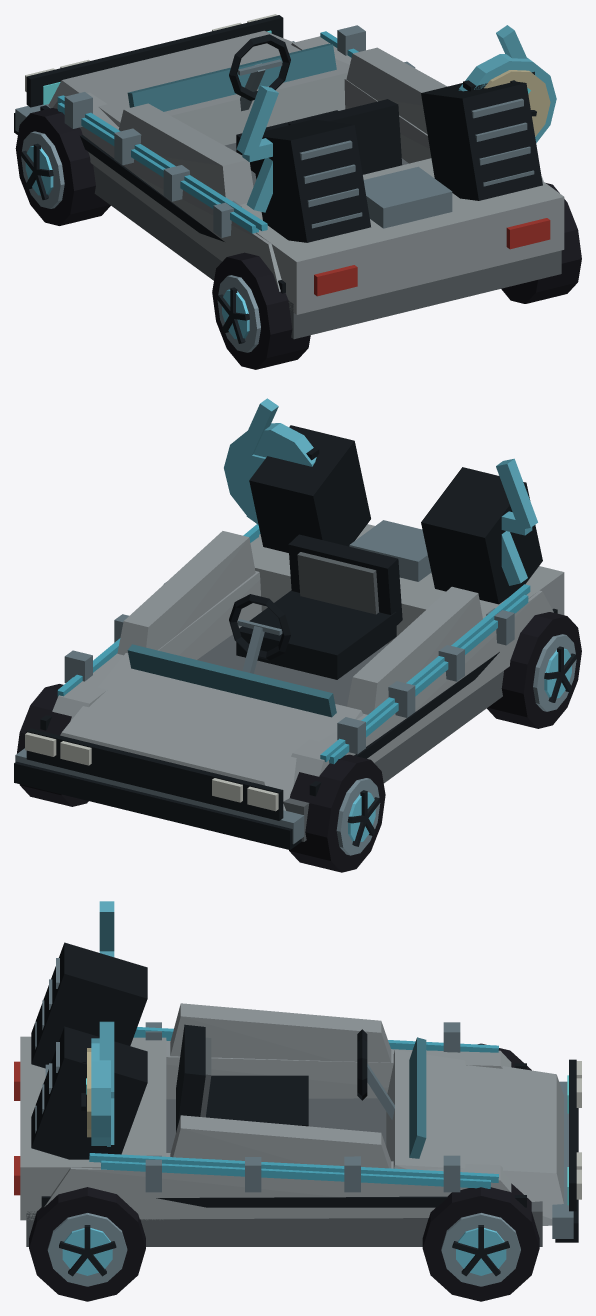
The model's file is kart.glb.
The picture shows the model from 3 angles, top to bottom: view 1: azimuth 30°, elevation 25°; view 2: azimuth 150°, elevation 25°; view 3: azimuth 270°, elevation 25°; orthographic projection.
Parts seen in each view (by area): view 1: identity-delorean-delorean-stainless-wedge, wheel-rear-left, wheel-front-left, identity-delorean-driver-cockpit, identity-delorean-motif-flux-coils, identity-delorean-motif-electric, identity-delorean-motif-clock, wheel-rear-right; view 2: identity-delorean-delorean-stainless-wedge, identity-delorean-driver-cockpit, wheel-front-left, wheel-rear-left, identity-delorean-motif-flux-coils, identity-delorean-motif-electric, identity-delorean-motif-clock, wheel-front-right; view 3: identity-delorean-delorean-stainless-wedge, wheel-front-right, wheel-rear-right, identity-delorean-driver-cockpit, identity-delorean-motif-flux-coils, identity-delorean-motif-clock, identity-delorean-motif-electric.
Part boxes in pixels (x1,y1,x2,y2): identity-delorean-delorean-stainless-wedge: (14,14,564,339); wheel-rear-left: (212,252,310,369); wheel-front-left: (15,108,110,225); identity-delorean-driver-cockpit: (229,34,402,174); identity-delorean-motif-flux-coils: (57,25,534,237); identity-delorean-motif-electric: (236,25,527,212); identity-delorean-motif-clock: (458,54,556,142); wheel-rear-right: (501,183,581,303); identity-delorean-delorean-stainless-wedge: (14,425,564,849); identity-delorean-driver-cockpit: (229,534,402,679); wheel-front-left: (289,754,385,872); wheel-rear-left: (487,612,581,728); identity-delorean-motif-flux-coils: (57,448,528,764); identity-delorean-motif-electric: (236,398,537,585); identity-delorean-motif-clock: (224,423,316,515); wheel-front-right: (17,684,88,806); identity-delorean-delorean-stainless-wedge: (14,942,581,1246); wheel-front-right: (422,1183,539,1301); wheel-rear-right: (29,1187,145,1301); identity-delorean-driver-cockpit: (176,1024,394,1132); identity-delorean-motif-flux-coils: (86,1022,490,1192); identity-delorean-motif-clock: (81,1038,110,1146); identity-delorean-motif-electric: (99,901,114,1144).
Bounding box in the file's own units: 1.97 × 1.49 × 2.92.
